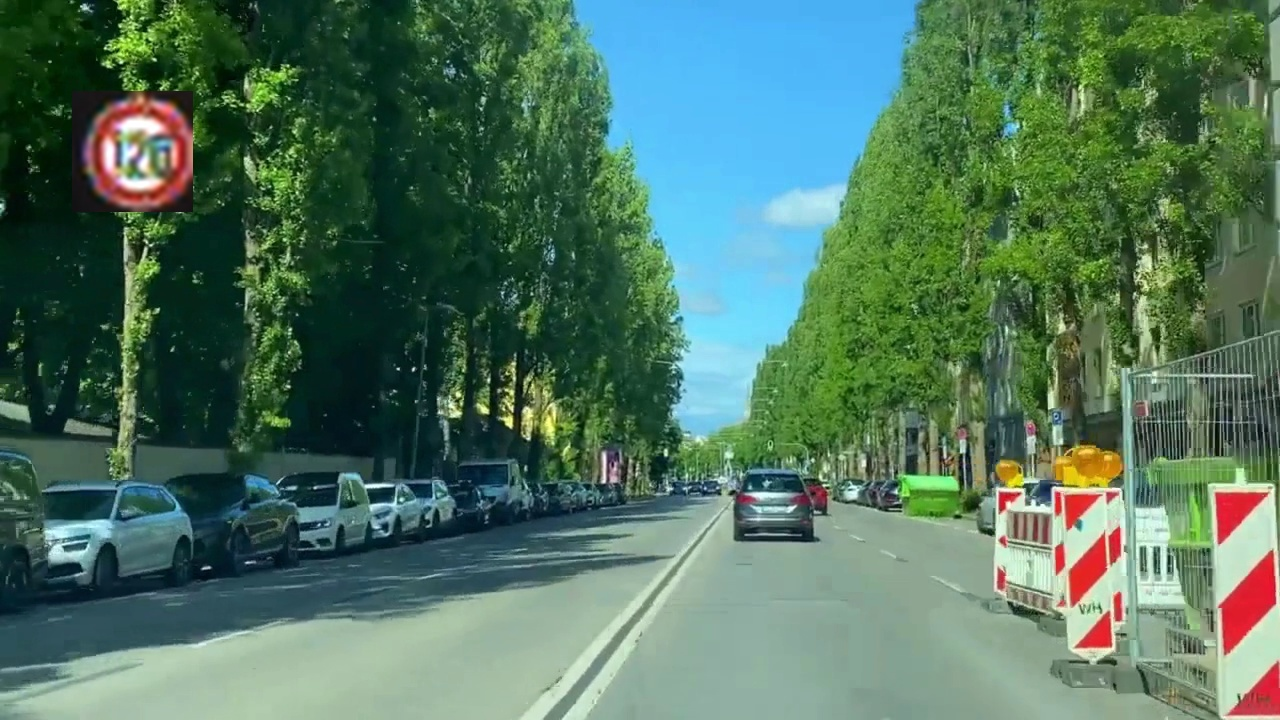Speed 120: (72, 91, 193, 212)
